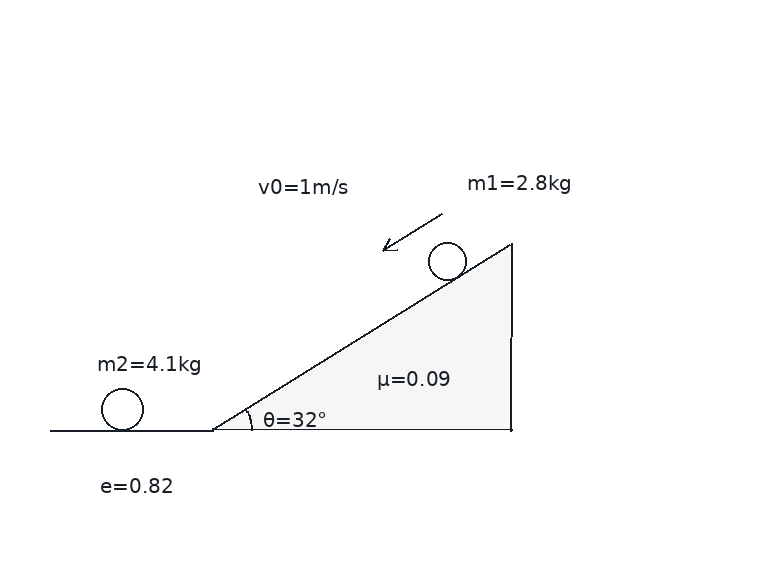ball: (99, 386, 145, 432), (426, 240, 468, 282)
ramp: (210, 241, 513, 432)
